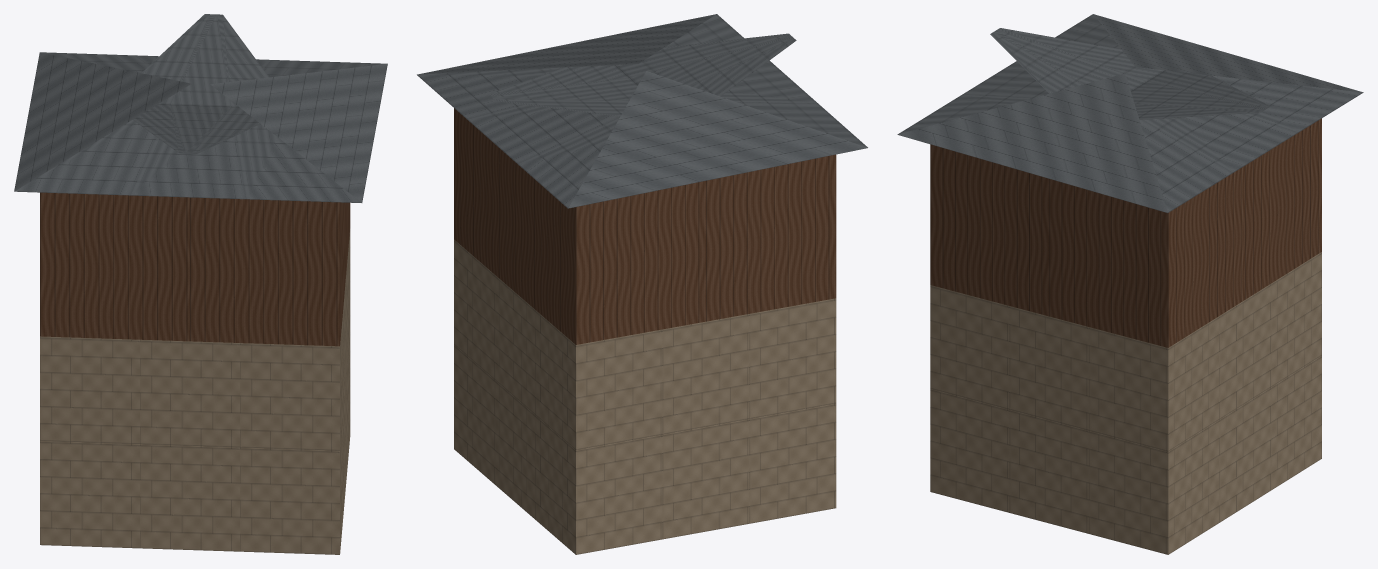
Rendered from bld_c6_-1_562.gltf.
The picture shows the model from 3 angles, left to right: view 1: azimuth 30°, elevation 25°; view 2: azimuth 150°, elevation 25°; view 3: azimuth 270°, elevation 25°; orthographic projection.
Visible parts, largest first — view 1: bld_c6_-1_562; view 2: bld_c6_-1_562; view 3: bld_c6_-1_562.
Boxes of the visible parts, x1,y1,x2,y2 form: bld_c6_-1_562: (14, 14, 387, 554); bld_c6_-1_562: (417, 14, 867, 554); bld_c6_-1_562: (897, 14, 1363, 554).
Bounding box in the file's own units: 9.85 × 9.3 × 9.76.
Materials: 3 (3 with a texture image).
